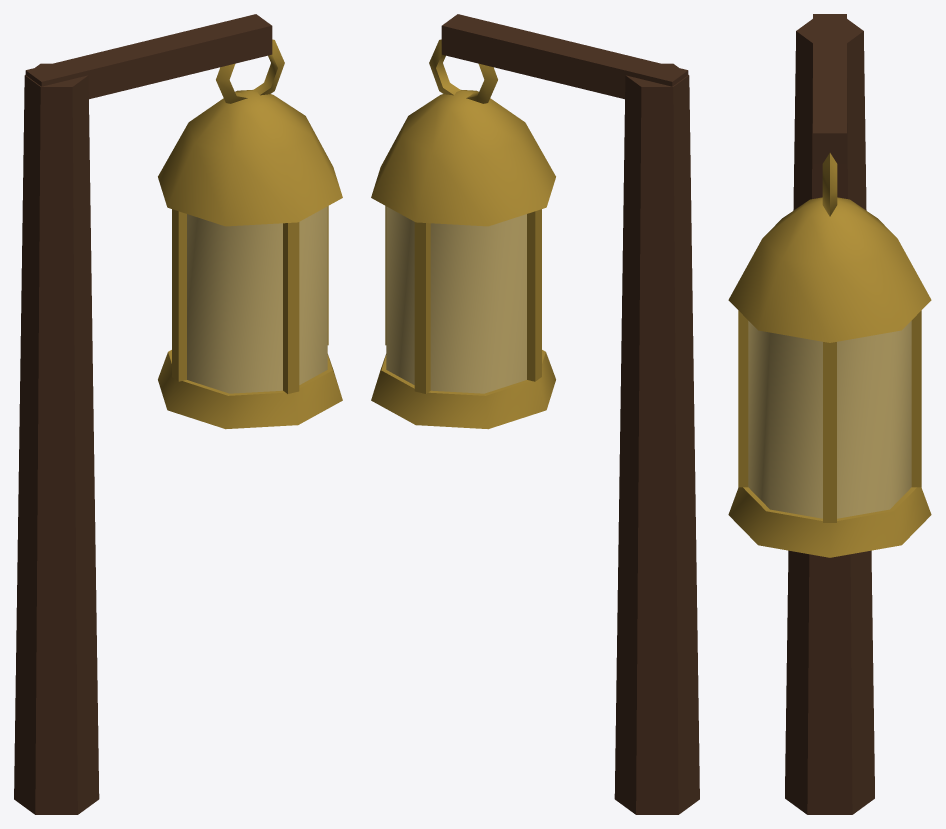
File: captains_lantern.glb
3 renders of one model, left to right at view 1: azimuth 30°, elevation 25°; view 2: azimuth 150°, elevation 25°; view 3: azimuth 270°, elevation 25°, orthographic. The views are drawn at different scales.
Visible parts, largest first — view 1: decor-captains_lantern; view 2: decor-captains_lantern; view 3: decor-captains_lantern.
Part boxes in pixels (x1,y1,x2,y2): decor-captains_lantern: [14, 14, 342, 814]; decor-captains_lantern: [371, 14, 699, 814]; decor-captains_lantern: [728, 14, 931, 814].
Size of the model in its own units: 0.6694 by 1.51 by 0.36.
